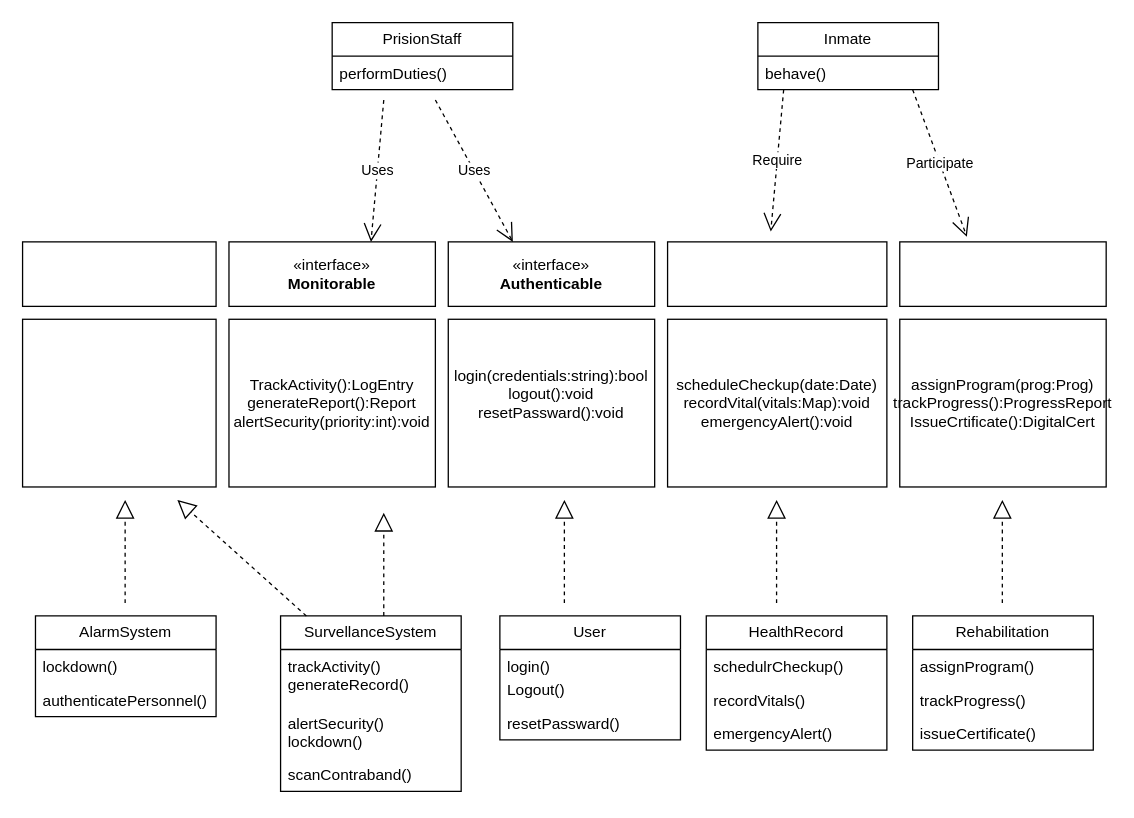
Some shapes in this 1134 by 818 pixel diagram are drawn without their labels. The centre of each missing label's shape, as x and y in pixels:
lockdown() authenticatepersonnel(): the point at 118,402
«interface» MedicalAction: the point at 776,273
«interface» RehabOperations: the point at 1002,273
«interface» SecurityOperation: the point at 118,273
